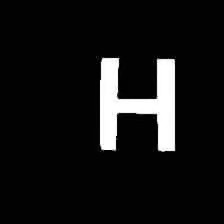LTR_H: (91, 46, 177, 157)
